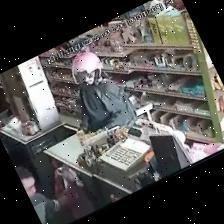person: (72, 52, 136, 132), (15, 168, 67, 223)
